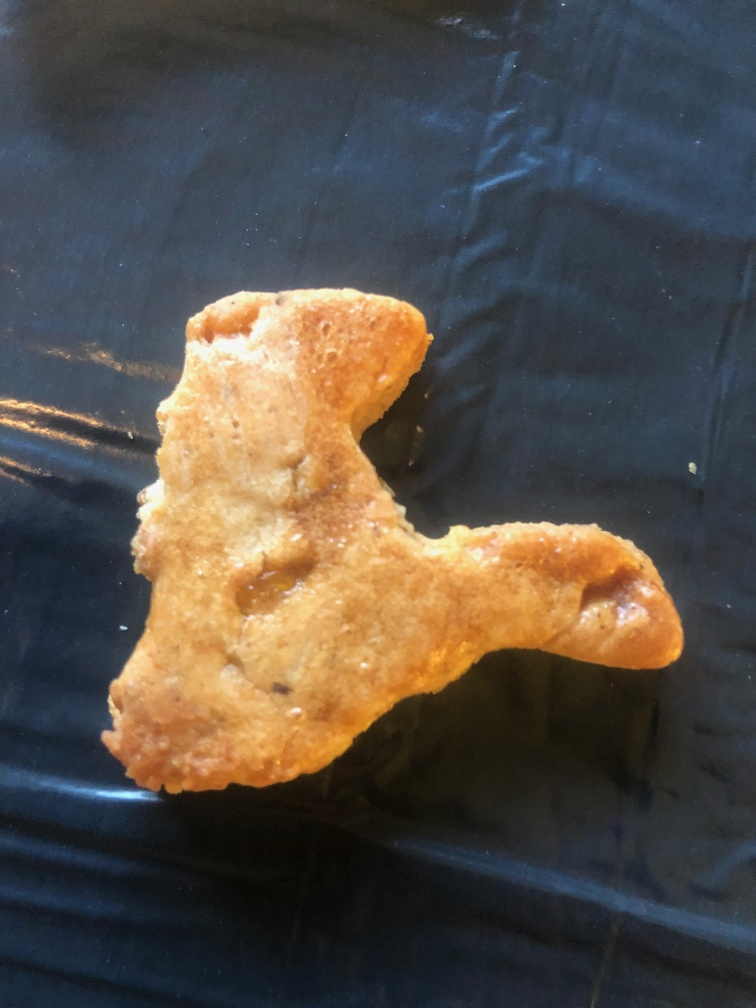squirrel: (96, 274, 694, 803)
